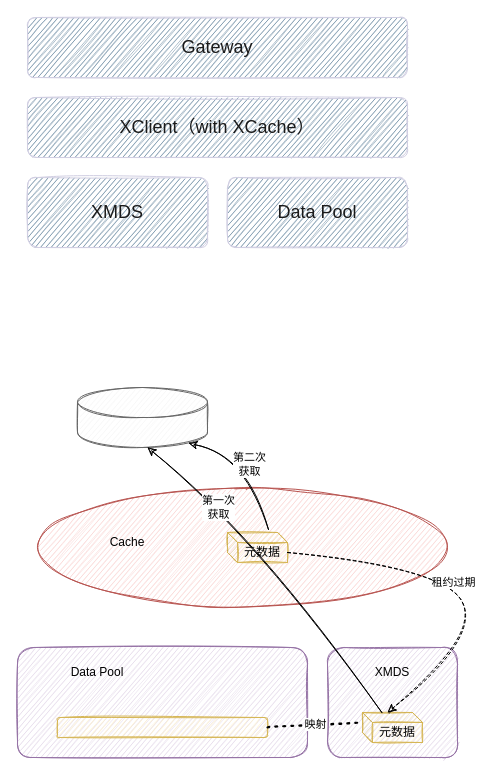
Some shapes in this 493 by 775 pixel diagram are drawn without their labels. The shapes that lost their labels are listed below. From the top down, each one's centre as x and y in pixels, then its label:
(142,417): APP
(162,727): 文件数据
